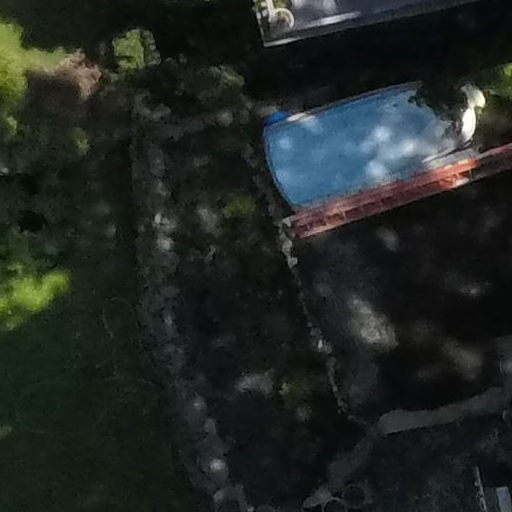container: (266, 10, 301, 36)
ladder: (269, 129, 512, 257)
